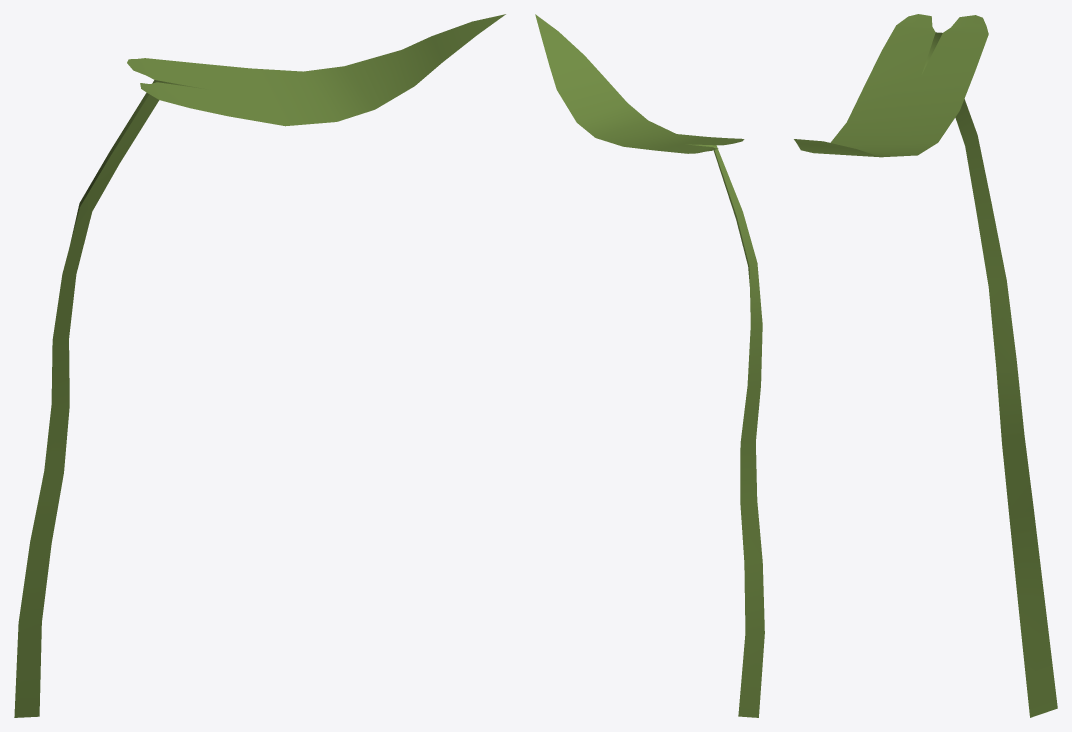
Rendered from plant_water_twig_solo_D.fbx.
The picture shows the model from 3 angles, left to right: view 1: azimuth 30°, elevation 25°; view 2: azimuth 150°, elevation 25°; view 3: azimuth 270°, elevation 25°; orthographic projection. The views are drawn at different scales.
Visible parts, largest first — view 1: plant_water_twig_solo_D; view 2: plant_water_twig_solo_D; view 3: plant_water_twig_solo_D.
Boxes of the visible parts, x1,y1,x2,y2 form: plant_water_twig_solo_D: (14, 14, 505, 717); plant_water_twig_solo_D: (535, 14, 764, 717); plant_water_twig_solo_D: (794, 14, 1057, 717).
Bounding box in the file's own units: 15.29 × 26.25 × 8.1.
